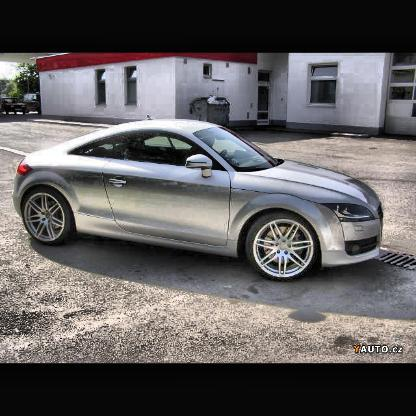Audi TTS Coupe 2012: (18, 117, 385, 282)
